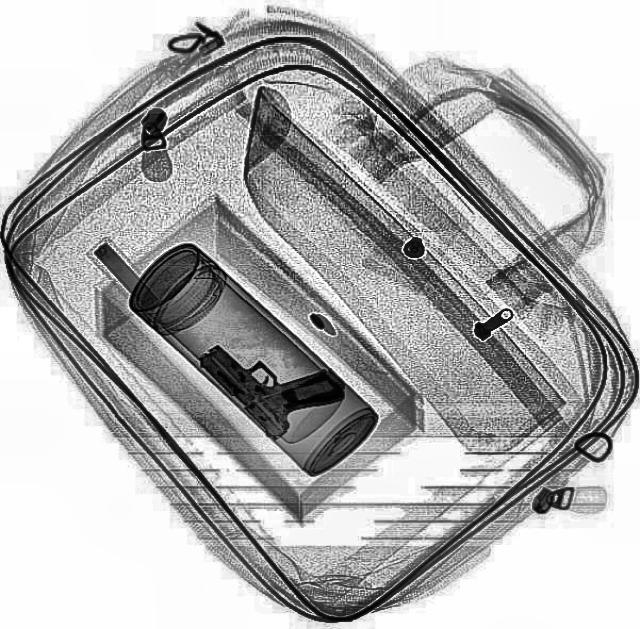Gun: (192, 305, 352, 451)
